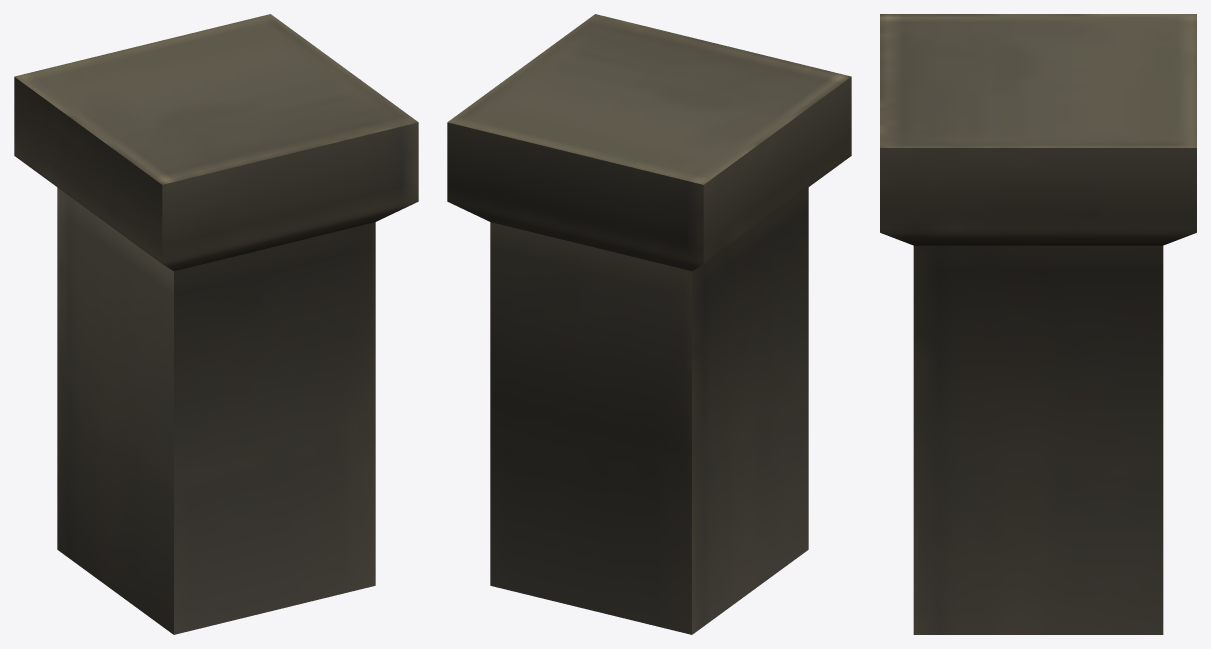
The model's file is Battle04_Cube_15.FBX.
3 renders of one model, left to right at view 1: azimuth 30°, elevation 25°; view 2: azimuth 150°, elevation 25°; view 3: azimuth 270°, elevation 25°, orthographic. The views are drawn at different scales.
Visible parts, largest first — view 1: Battle04_Cube_15; view 2: Battle04_Cube_15; view 3: Battle04_Cube_15.
Boxes of the visible parts, left/top/right/bottom form: Battle04_Cube_15: left=14, top=14, right=418, bottom=634; Battle04_Cube_15: left=447, top=14, right=851, bottom=634; Battle04_Cube_15: left=880, top=14, right=1196, bottom=634.
Size of the model in its own units: 2.26 by 3.94 by 2.26.
